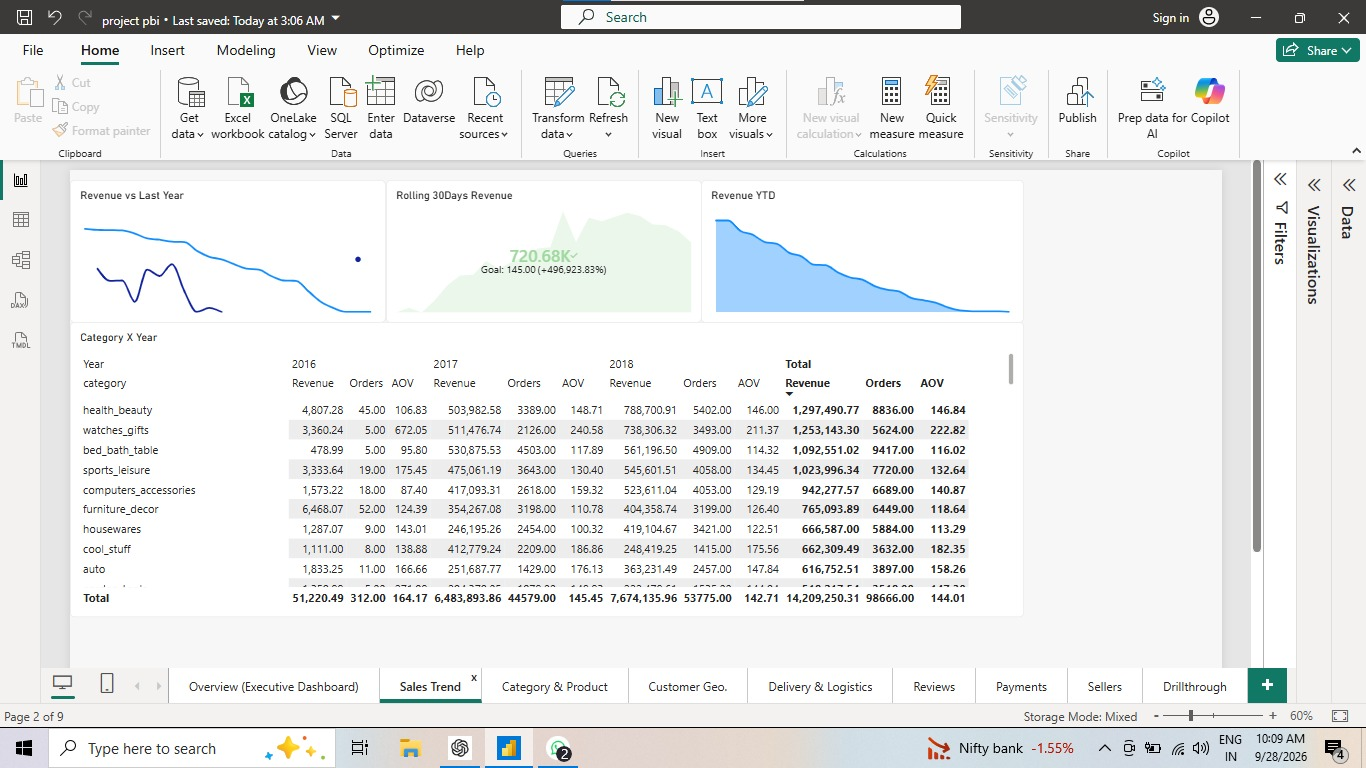

What the dashboard file says about the page in this screenshot:
{"tool":"powerbi","page":{"name":"Sales Trend","canvas":[1920,1080],"ordinal":1},"visuals":[{"type":"lineChart","title":"Revenue vs Last Year","fields":{"Category":["DimDate.Year-Month"],"Y":["public bi_fact_sales.Revenue","public bi_fact_sales.Revenue LY"]},"box":[0,16,526,238],"z":0},{"type":"kpi","title":"Rolling 30Days Revenue","fields":{"Goal":["public bi_fact_sales.Revenue"],"Indicator":["public bi_fact_sales.Rolling 30D Revenue"],"TrendLine":["DimDate.Year-Month"]},"box":[526,16,526,238],"z":1},{"type":"lineChart","title":"Revenue YTD","fields":{"Category":["DimDate.Year-Month"],"Y":["public bi_fact_sales.Revenue YTD"]},"box":[1052,16,538,238],"z":2},{"type":"pivotTable","title":"Category X Year","fields":{"Columns":["DimDate.Year"],"Rows":["public bi_fact_sales.category"],"Values":["public bi_fact_sales.Revenue","public bi_fact_sales.Orders","public bi_fact_sales.AOV"]},"box":[0,254,1590,492],"z":4}]}

Visuals, with their boxes on the page's 1920x1080 design canvas (x1, y1, x2, y2). These are canvas units, not pixel positions in the 1366x768 screenshot, which may show the page scaled, cropped or inside an application window:
"Revenue vs Last Year" lineChart: 0/16/526/254
"Rolling 30Days Revenue" kpi: 526/16/1052/254
"Revenue YTD" lineChart: 1052/16/1590/254
"Category X Year" pivotTable: 0/254/1590/746
